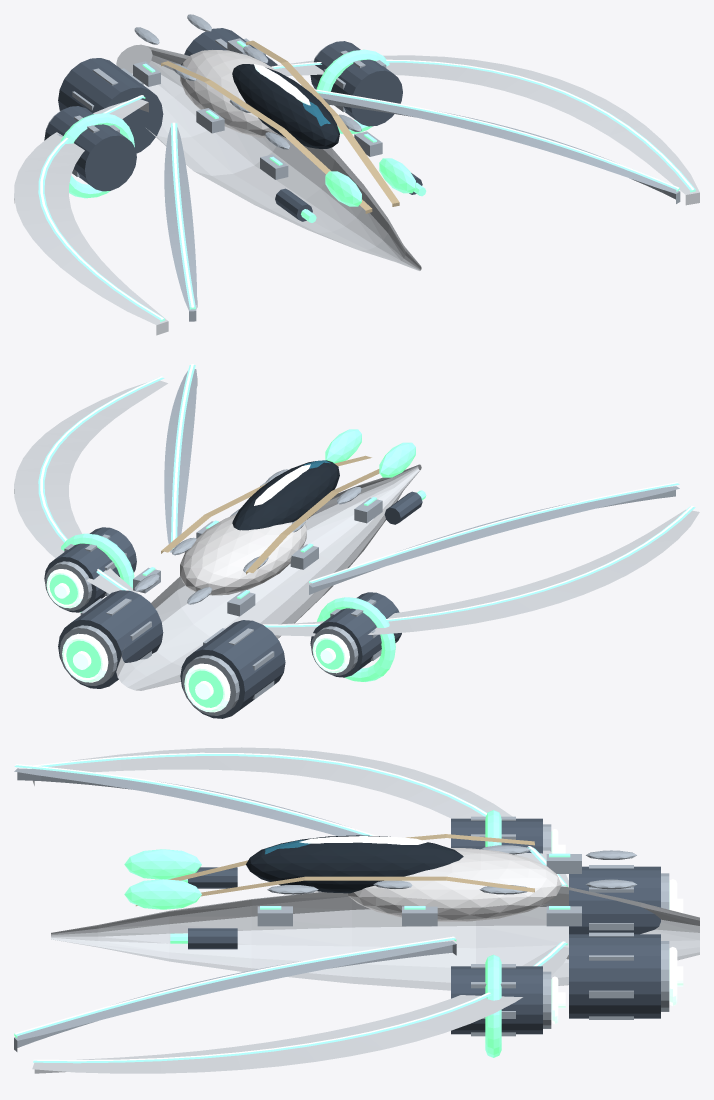
The model's file is SL_KENSEI_FINAL.glb.
3 views of the same model, one above another, from view 1: azimuth 30°, elevation 25°; view 2: azimuth 150°, elevation 25°; view 3: azimuth 270°, elevation 25° (orthographic). The views are drawn at different scales.
Visible parts, largest first — view 1: armor, shadow, panel, neon, black, highlight, bright, trim; view 2: armor, panel, shadow, neon, bright, highlight, black, trim; view 3: armor, shadow, panel, neon, highlight, black, bright, trim.
Part boxes in pixels (bbox=[...]): armor: bbox=[14, 44, 699, 335]; shadow: bbox=[44, 28, 422, 221]; panel: bbox=[45, 14, 680, 321]; neon: bbox=[38, 40, 695, 321]; black: bbox=[232, 64, 339, 148]; highlight: bbox=[180, 50, 283, 137]; bright: bbox=[40, 59, 693, 319]; trim: bbox=[161, 40, 399, 213]; armor: bbox=[14, 380, 699, 690]; panel: bbox=[45, 369, 679, 715]; shadow: bbox=[44, 491, 422, 718]; neon: bbox=[38, 365, 695, 707]; bright: bbox=[40, 364, 693, 712]; highlight: bbox=[180, 513, 306, 595]; black: bbox=[232, 460, 339, 530]; trim: bbox=[161, 455, 379, 574]; armor: bbox=[32, 747, 699, 1073]; shadow: bbox=[188, 818, 660, 1034]; panel: bbox=[14, 768, 669, 1051]; neon: bbox=[14, 754, 570, 1063]; highlight: bbox=[347, 848, 561, 921]; black: bbox=[246, 835, 463, 893]; bright: bbox=[15, 752, 683, 1061]; trim: bbox=[135, 834, 534, 906].
Size of the model in its own units: 6.5 by 1.38 by 5.81.
